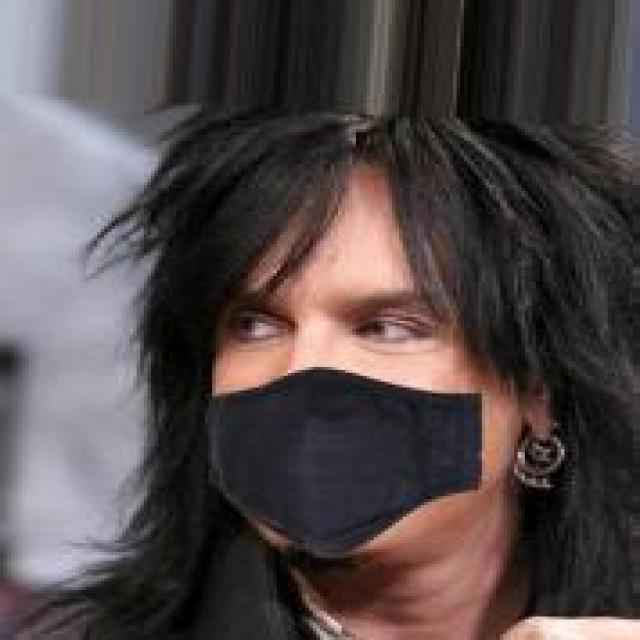mask: (122, 76, 611, 590)
